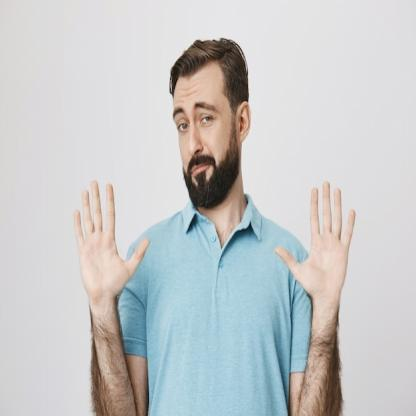stop: (273, 178, 358, 316), (71, 176, 152, 306)
